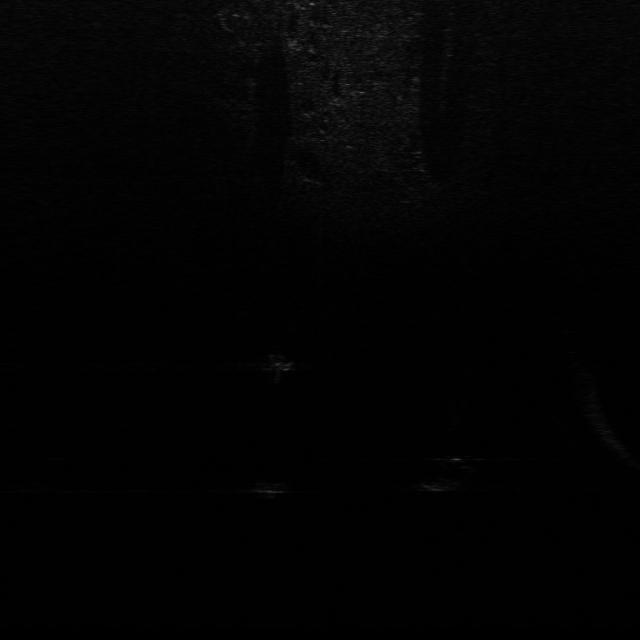cube: (246, 468, 292, 498)
square cage: (266, 349, 296, 379)
tyre: (422, 447, 486, 492)
